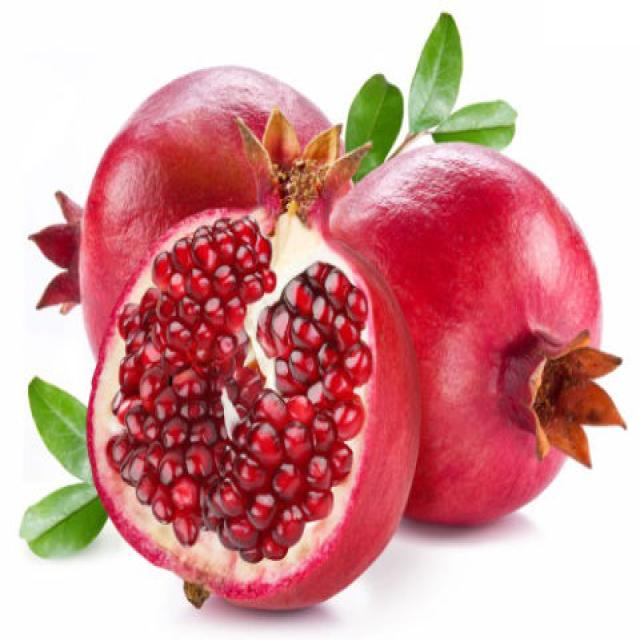apple: (331, 133, 625, 538), (30, 66, 362, 324)
